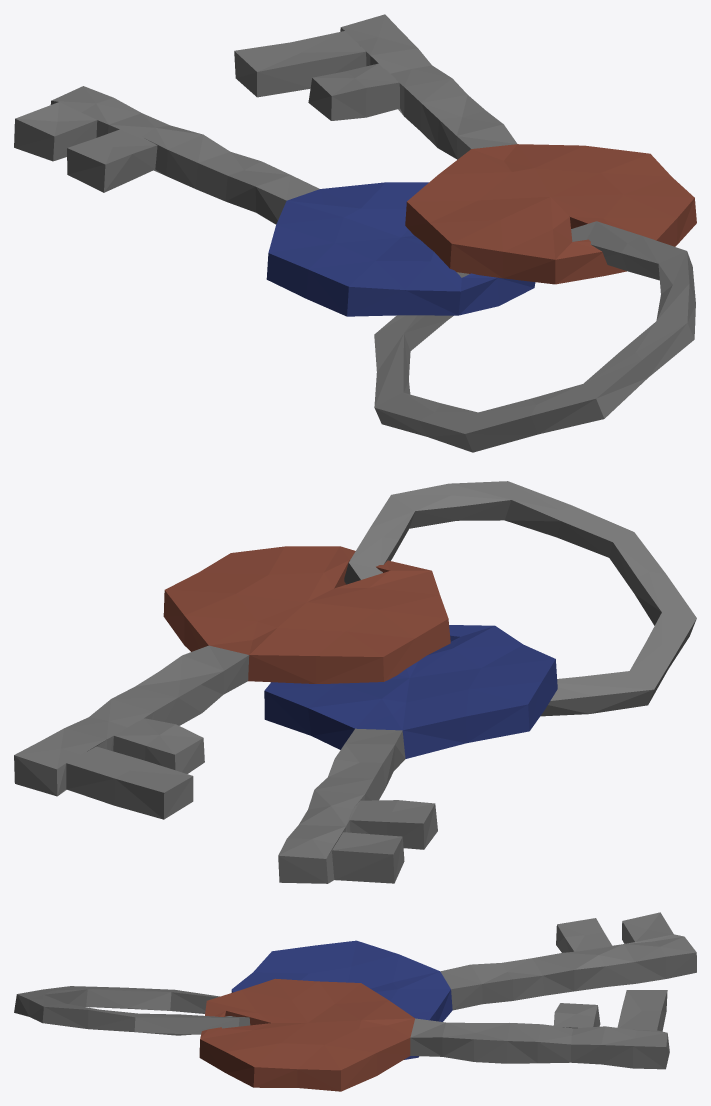
Rendered from item_keys.fbx.
3 renders of one model, top to bottom at view 1: azimuth 30°, elevation 25°; view 2: azimuth 150°, elevation 25°; view 3: azimuth 270°, elevation 25°, orthographic. The views are drawn at different scales.
Visible parts, largest first — view 1: item_keys; view 2: item_keys; view 3: item_keys.
Part boxes in pixels (x1,y1,x2,y2): item_keys: [14, 14, 696, 452]; item_keys: [14, 481, 696, 883]; item_keys: [14, 912, 696, 1091].
Bounding box in the file's own units: 8.46 × 2.29 × 14.72.
